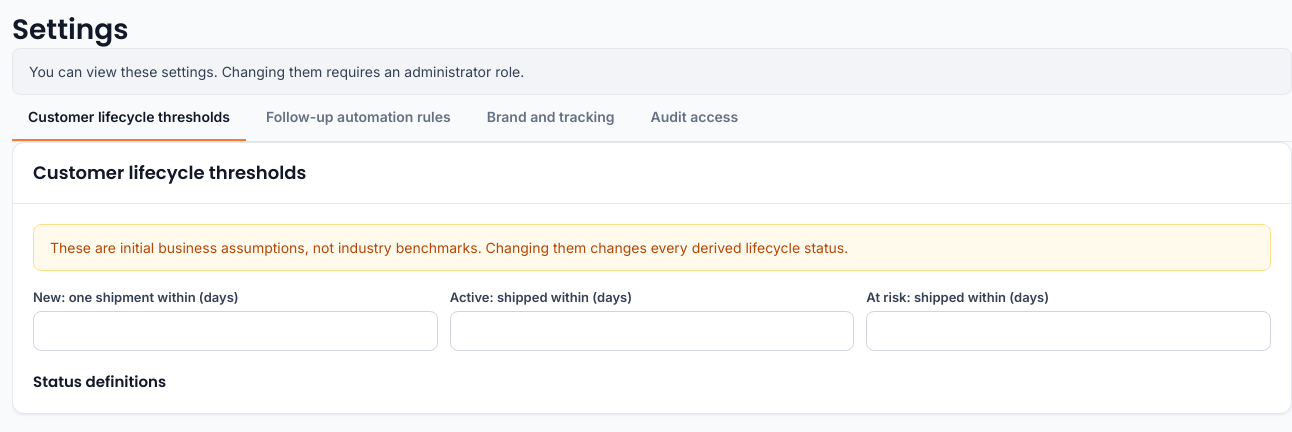
Settings › Audit access › suppression evidence › shows the reference the suppression was recorded against
The width and height of the screenshot is (1292, 432).
expect the heading "Settings" is shown: met, box [12,12,129,48]
Click the tab "Audit access" at [694, 118], box [635,95,754,141]
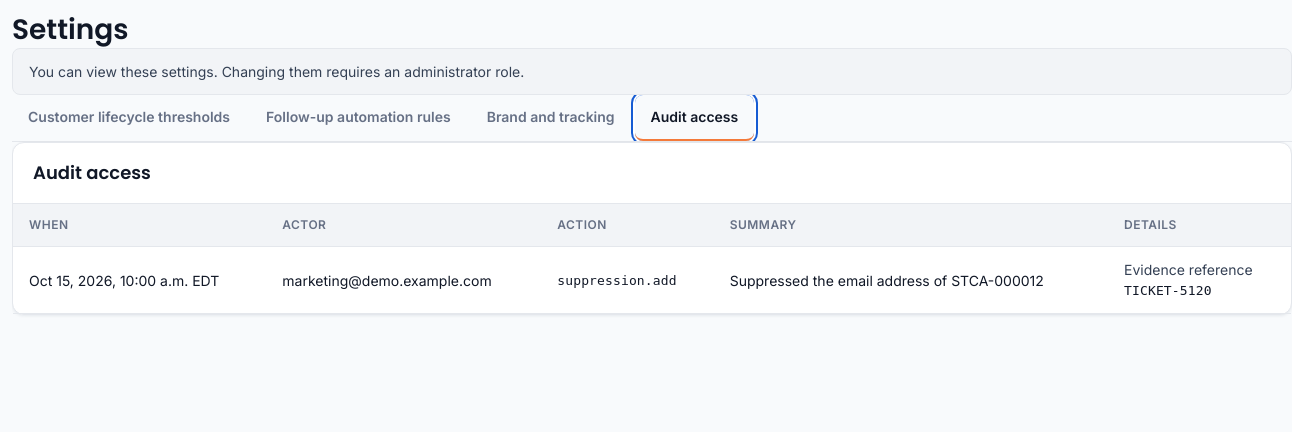
expect the text "Evidence reference" is shown: met, box [1124,259,1275,280]
expect the text "TICKET-5120" is shown: met, box [1124,283,1212,298]
